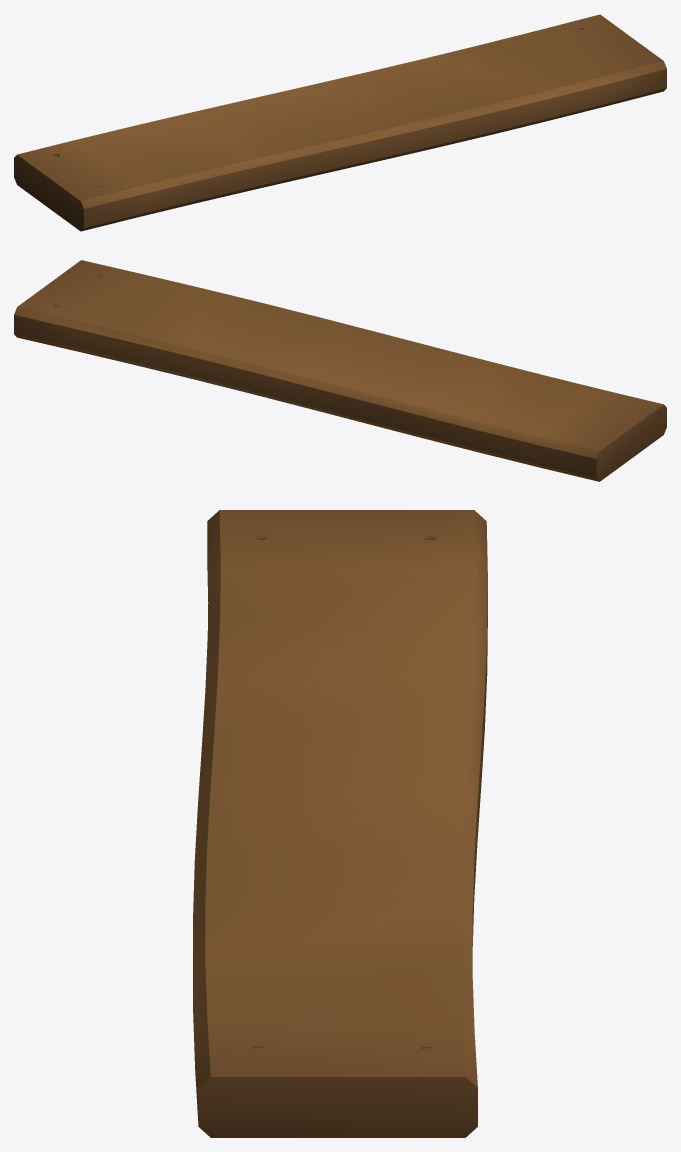
The model's file is bridge_plank.glb.
3 views of the same model, one above another, from view 1: azimuth 30°, elevation 25°; view 2: azimuth 150°, elevation 25°; view 3: azimuth 270°, elevation 25° (orthographic). The views are drawn at different scales.
Parts seen in each view (by area): view 1: bridge_plank; view 2: bridge_plank; view 3: bridge_plank.
Part boxes in pixels (<box>): bridge_plank: <box>14,14,666,231</box>; bridge_plank: <box>14,260,666,481</box>; bridge_plank: <box>193,510,487,1137</box>.
Size of the model in its own units: 2.4 by 0.12 by 0.5277.
